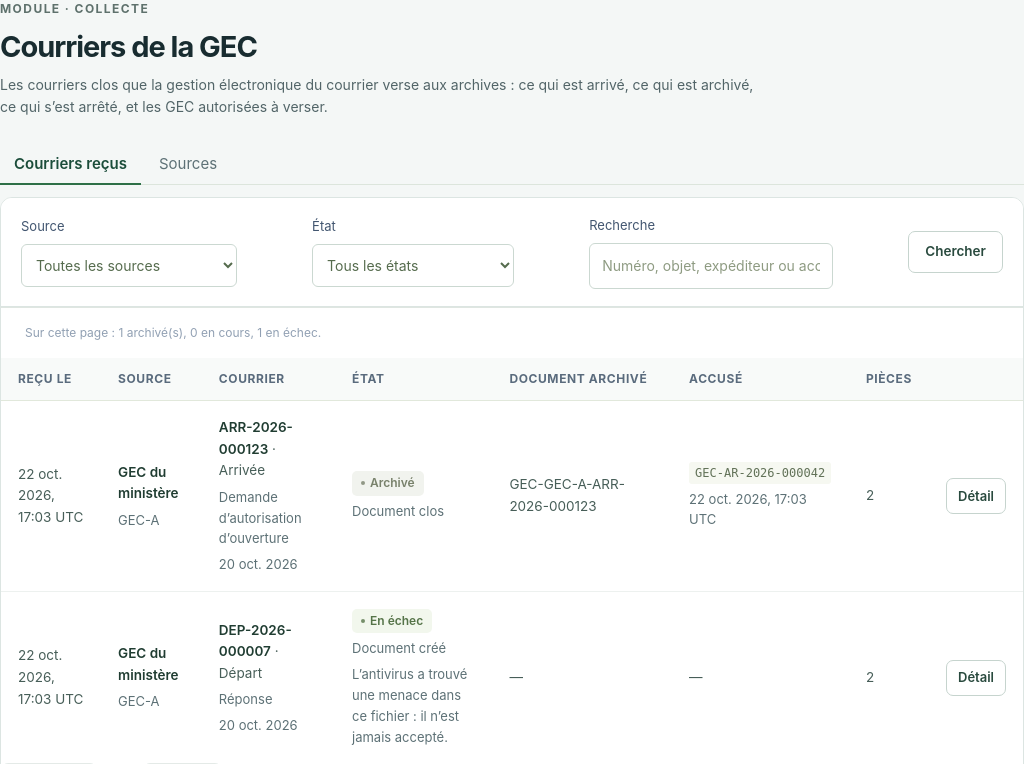
Scenario: les sources se listent avec le nom du type de document, sans identifiant
The width and height of the screenshot is (1024, 764).
Step 1. Click the tab "Sources" → (188,164), box x1=145 y1=144 x2=231 y2=185
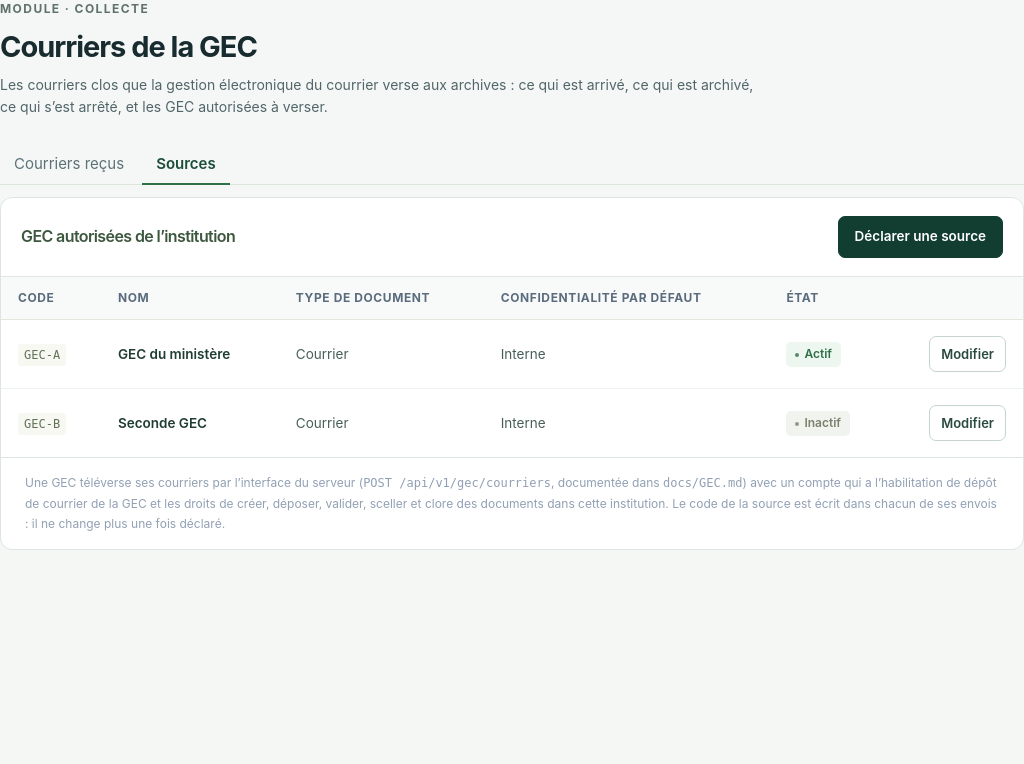
expect the text "Courrier" in the row of "GEC-A" is shown: met, box x1=296 y1=346 x2=348 y2=362
expect the text "Interne" in the row of "GEC-A" is shown: met, box x1=501 y1=346 x2=546 y2=362
expect the text "Actif" is shown: met, box x1=786 y1=342 x2=841 y2=367
